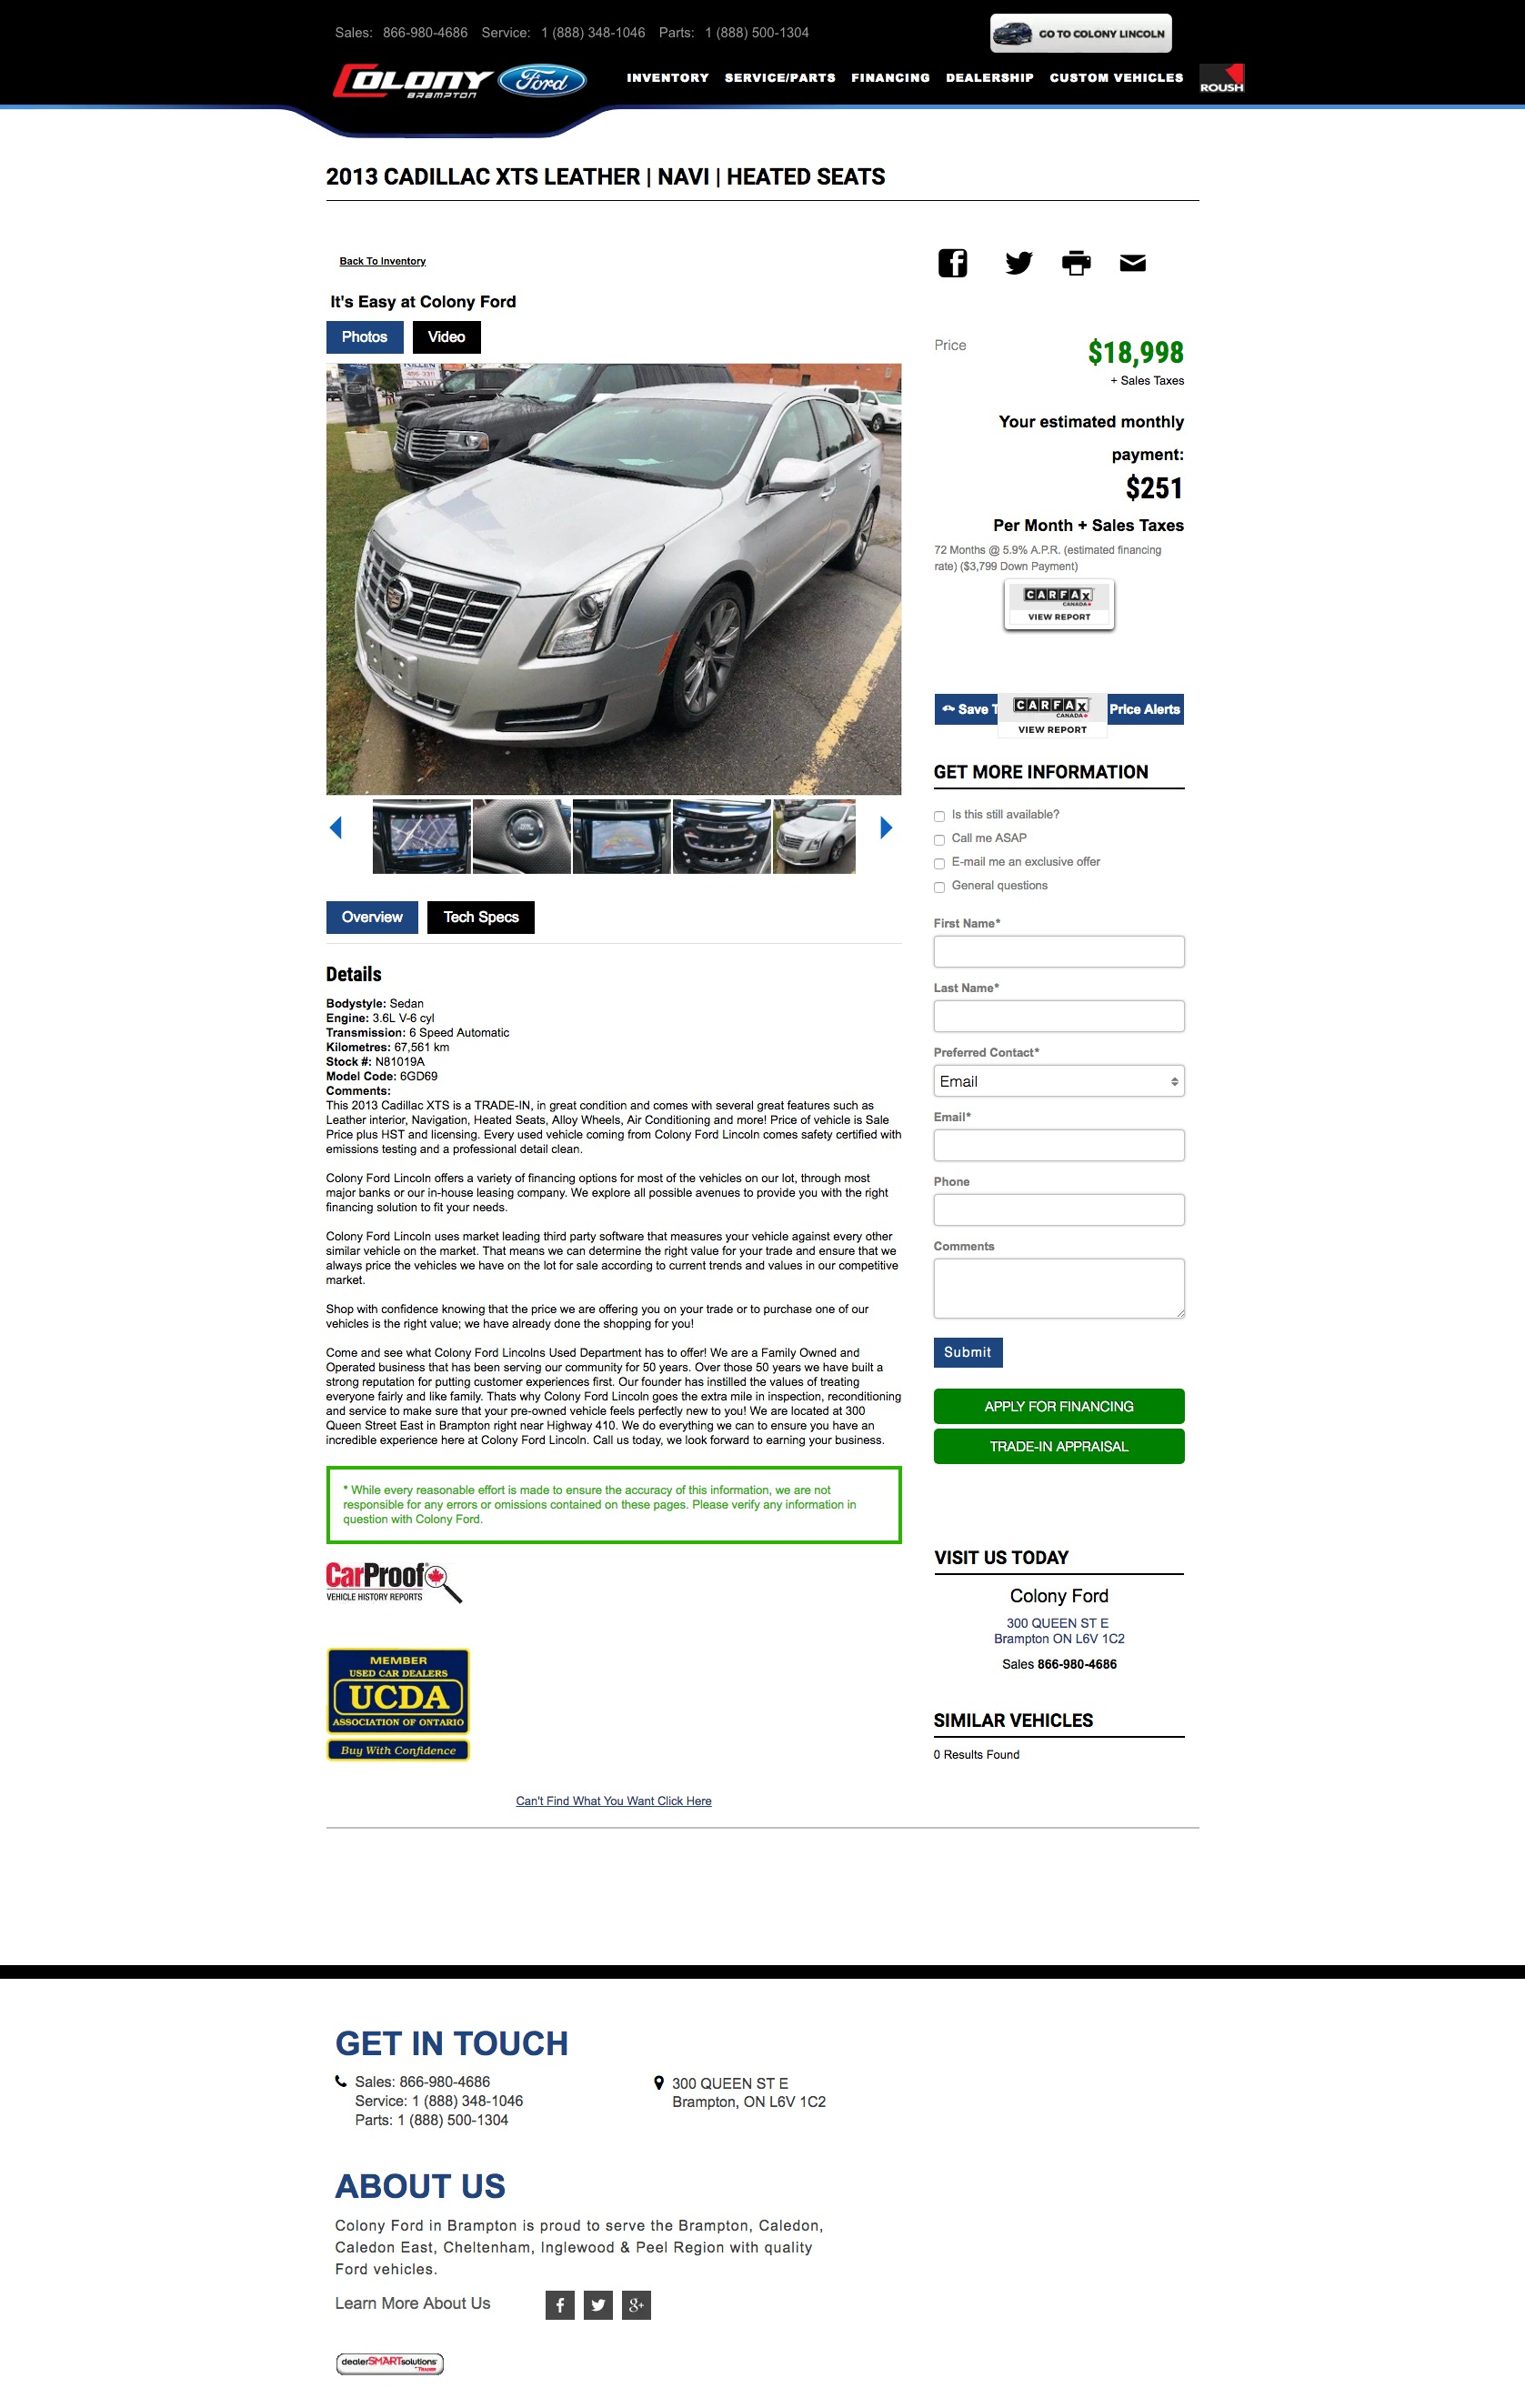car: (879, 816, 893, 841)
